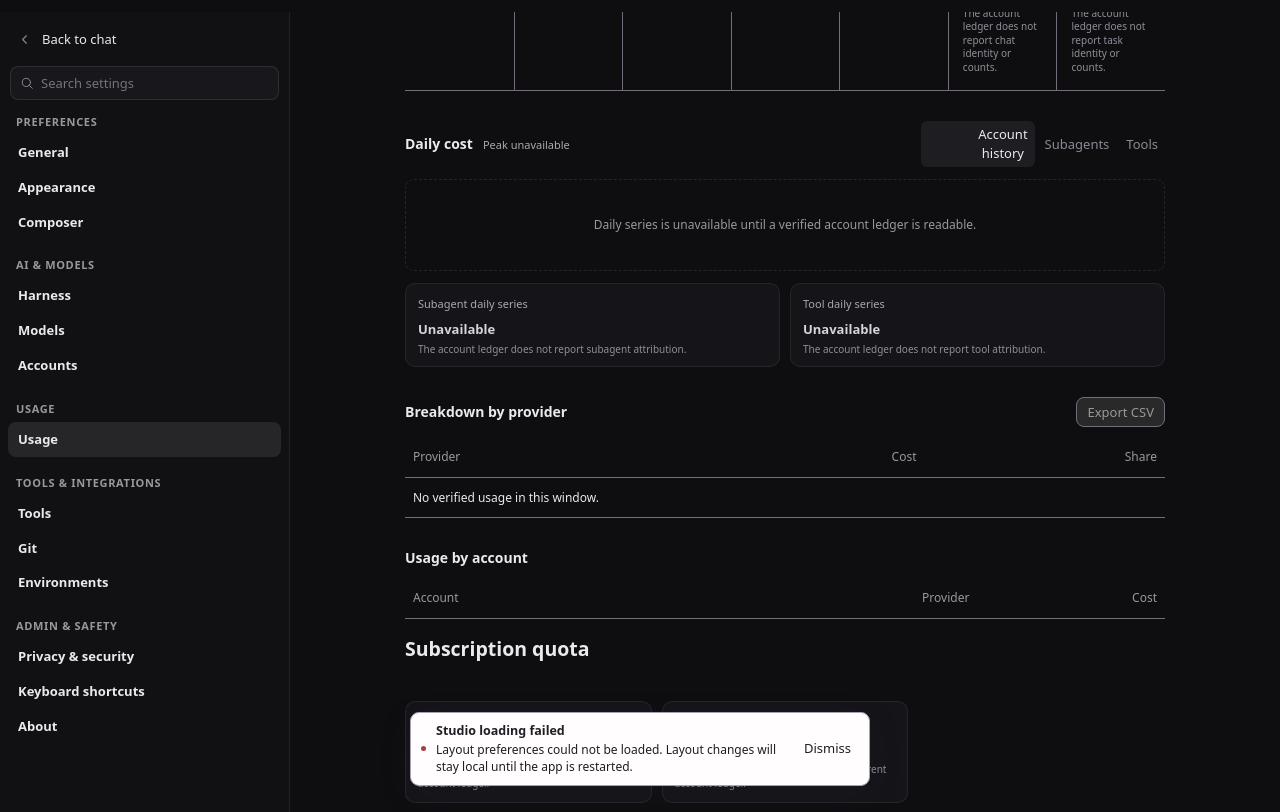
Test case: Studio application state › wires Settings usage export to the native user-selected save boundary
(page scrolled)
Click the button "Export CSV" at coordinates (1121, 412), box 1076,397 -> 1165,427
(page scrolled)
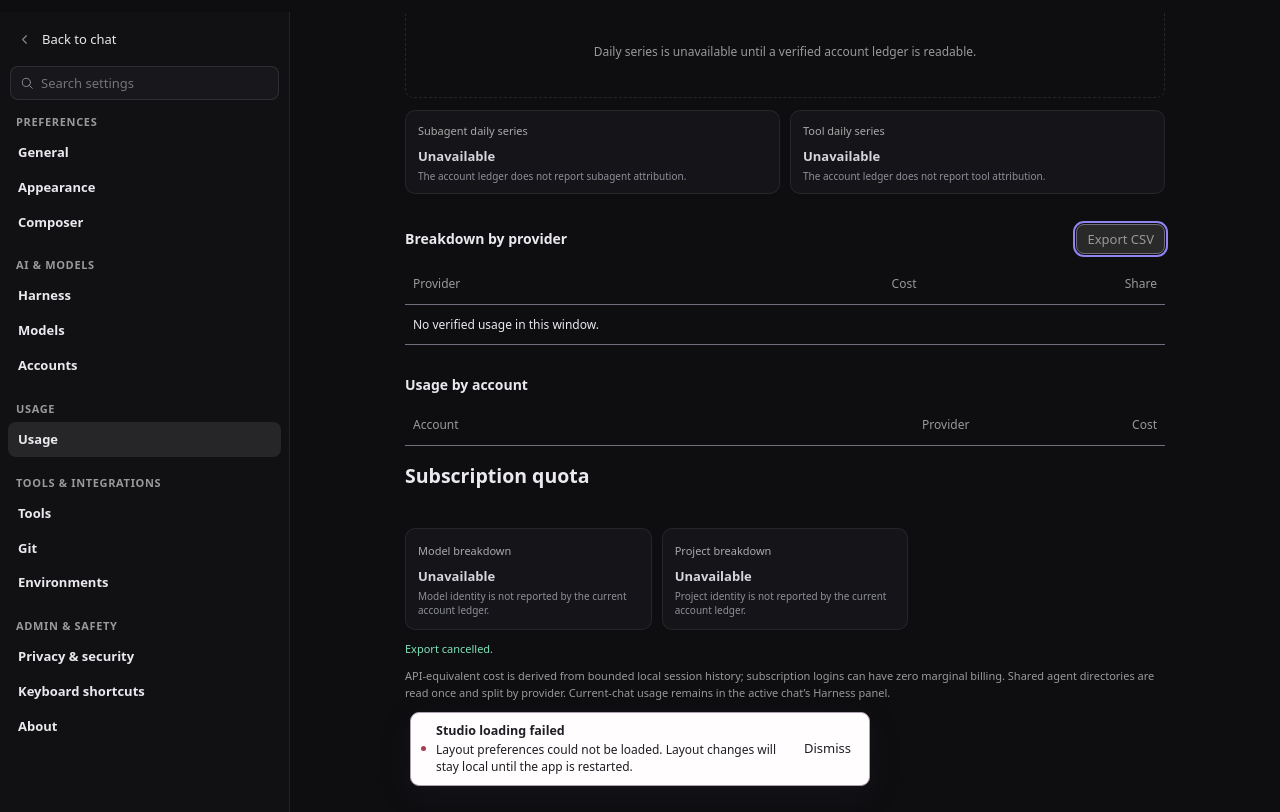
Result: the text "Export cancelled." is shown at 405,641 -> 493,656
